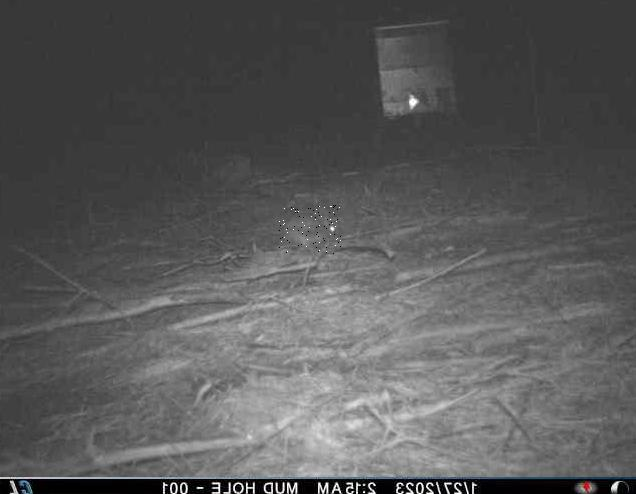Rabbit: (279, 205, 341, 254)
